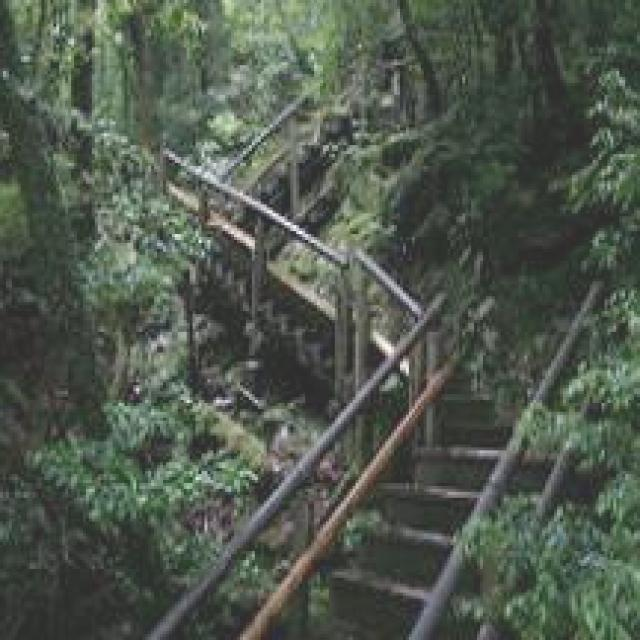upstair: (295, 378, 517, 606)
